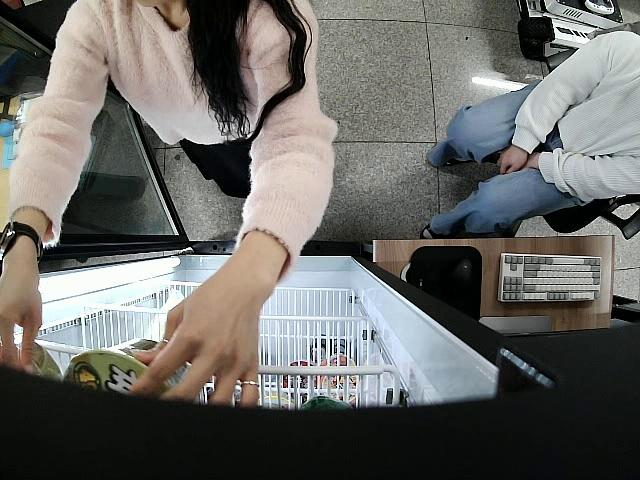00_hand: (136, 271, 261, 406), (1, 259, 43, 368), (496, 144, 526, 174)
03_chapagetti_L: (66, 334, 203, 406), (0, 344, 62, 384)
